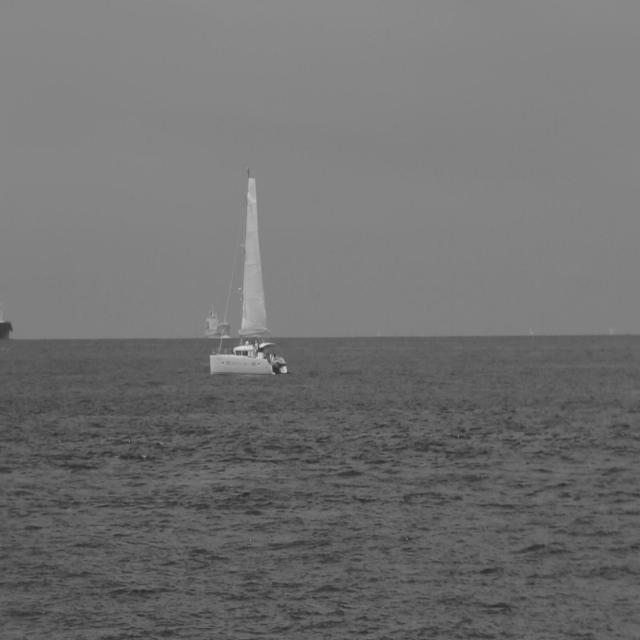boat: (210, 167, 290, 378)
ship: (200, 306, 227, 341), (1, 299, 9, 355)
